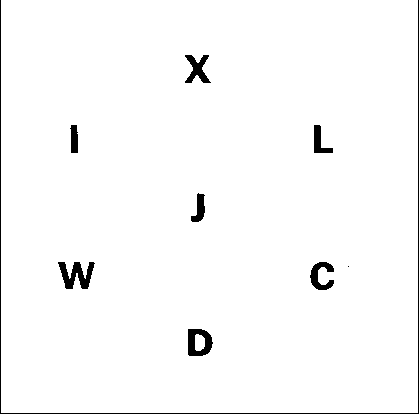I: (64, 118, 87, 161)
